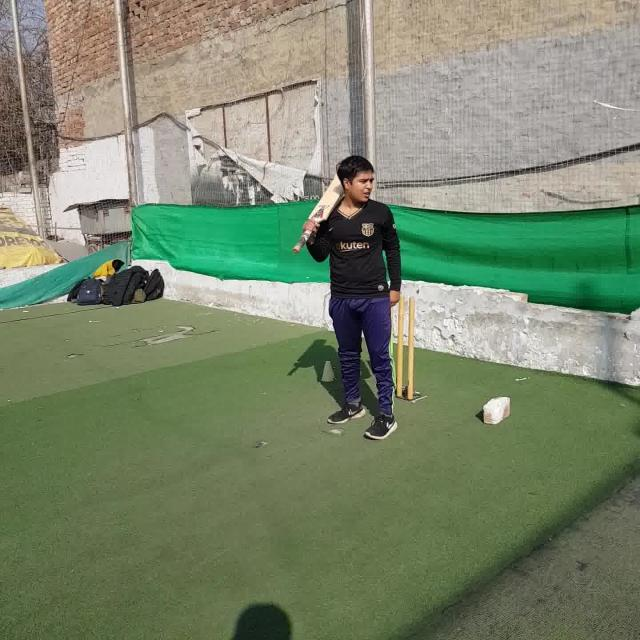bat: (292, 168, 348, 253)
